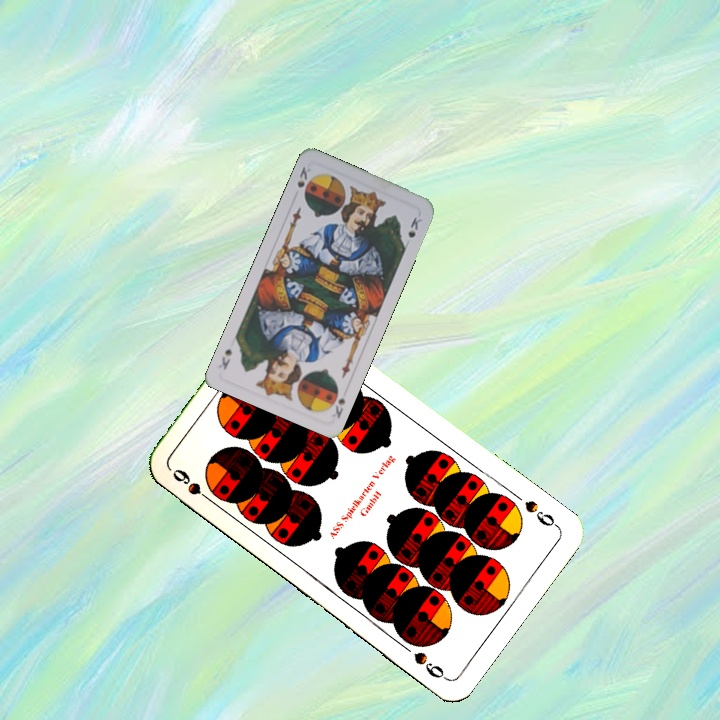S9: (168, 464, 218, 507), (520, 496, 562, 531)
SK: (326, 383, 348, 421), (293, 162, 313, 190)
